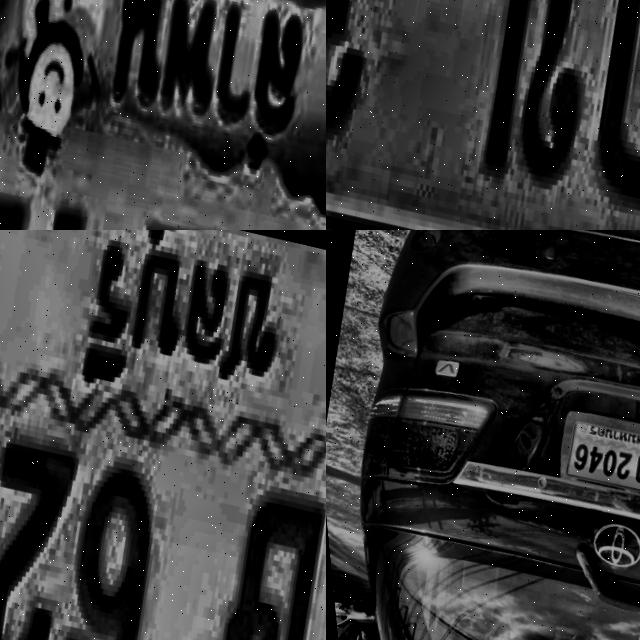license-plate: (0, 230, 326, 640), (0, 0, 326, 230), (326, 0, 640, 230), (541, 406, 640, 515)
